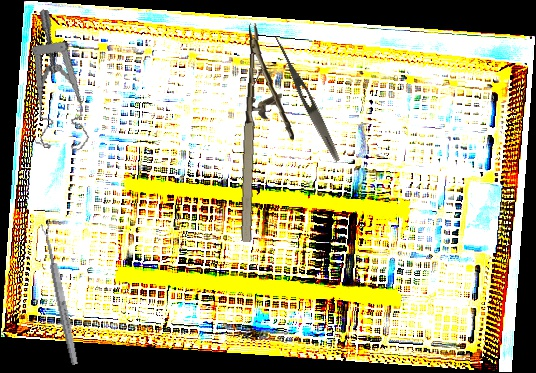Dressing Forceps: (269, 34, 344, 164)
Needle Holder: (234, 22, 302, 245)
Speculum: (6, 8, 118, 158)
Surgical Spoon: (40, 222, 80, 366)
